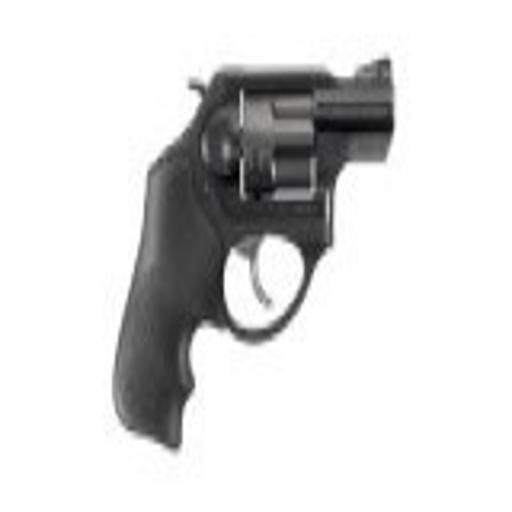Handgun: (107, 50, 395, 464)
